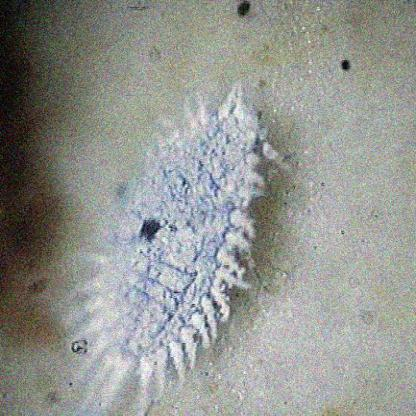mealy bug: (82, 84, 277, 403)
